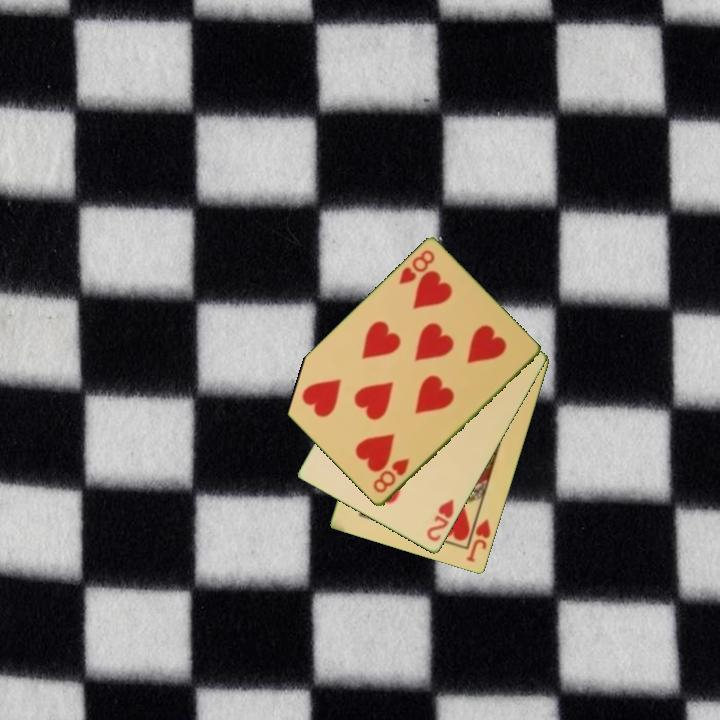2h: (423, 496, 457, 545)
8h: (395, 247, 438, 288), (370, 455, 412, 496)
Jh: (463, 515, 494, 566)
